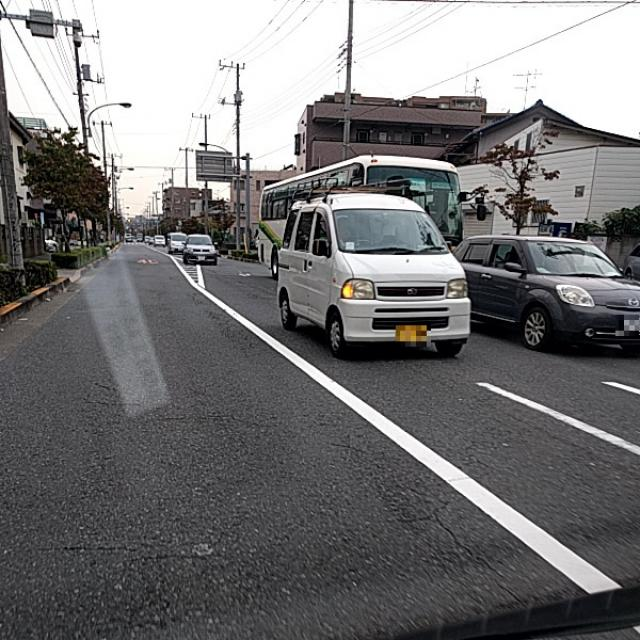pothole: (318, 404, 408, 518)
